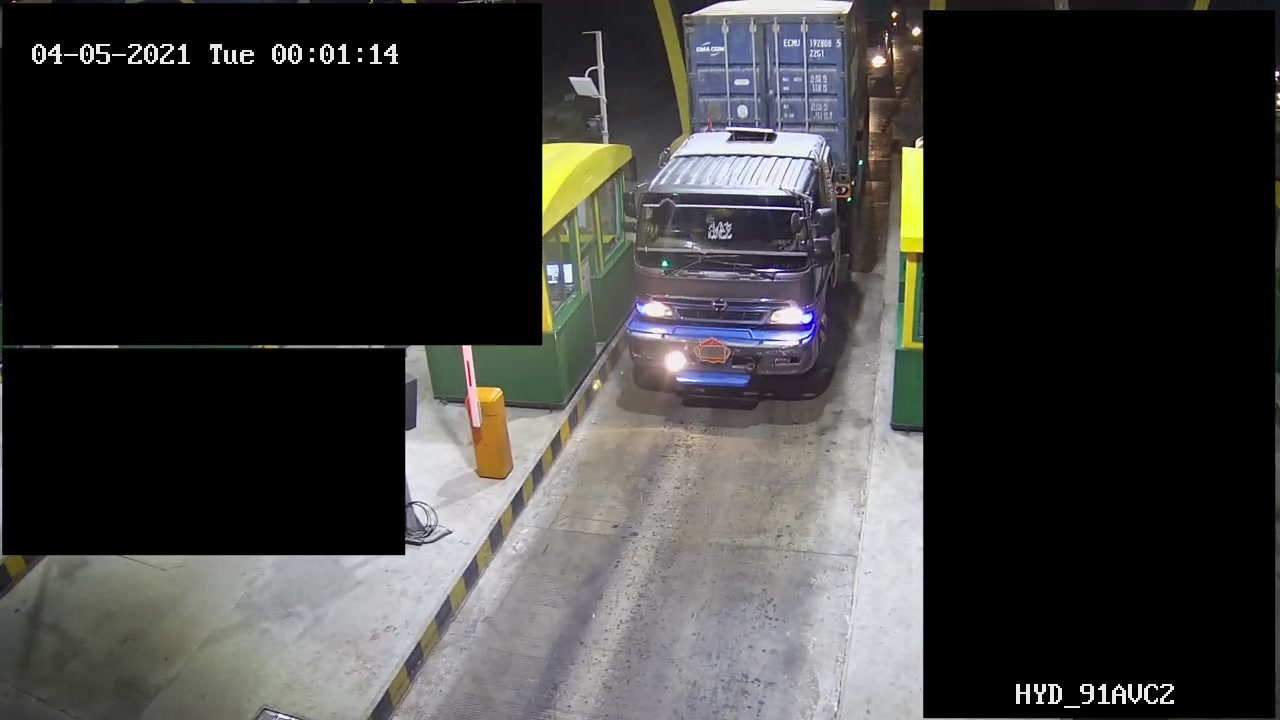F6: (617, 1, 870, 404)
